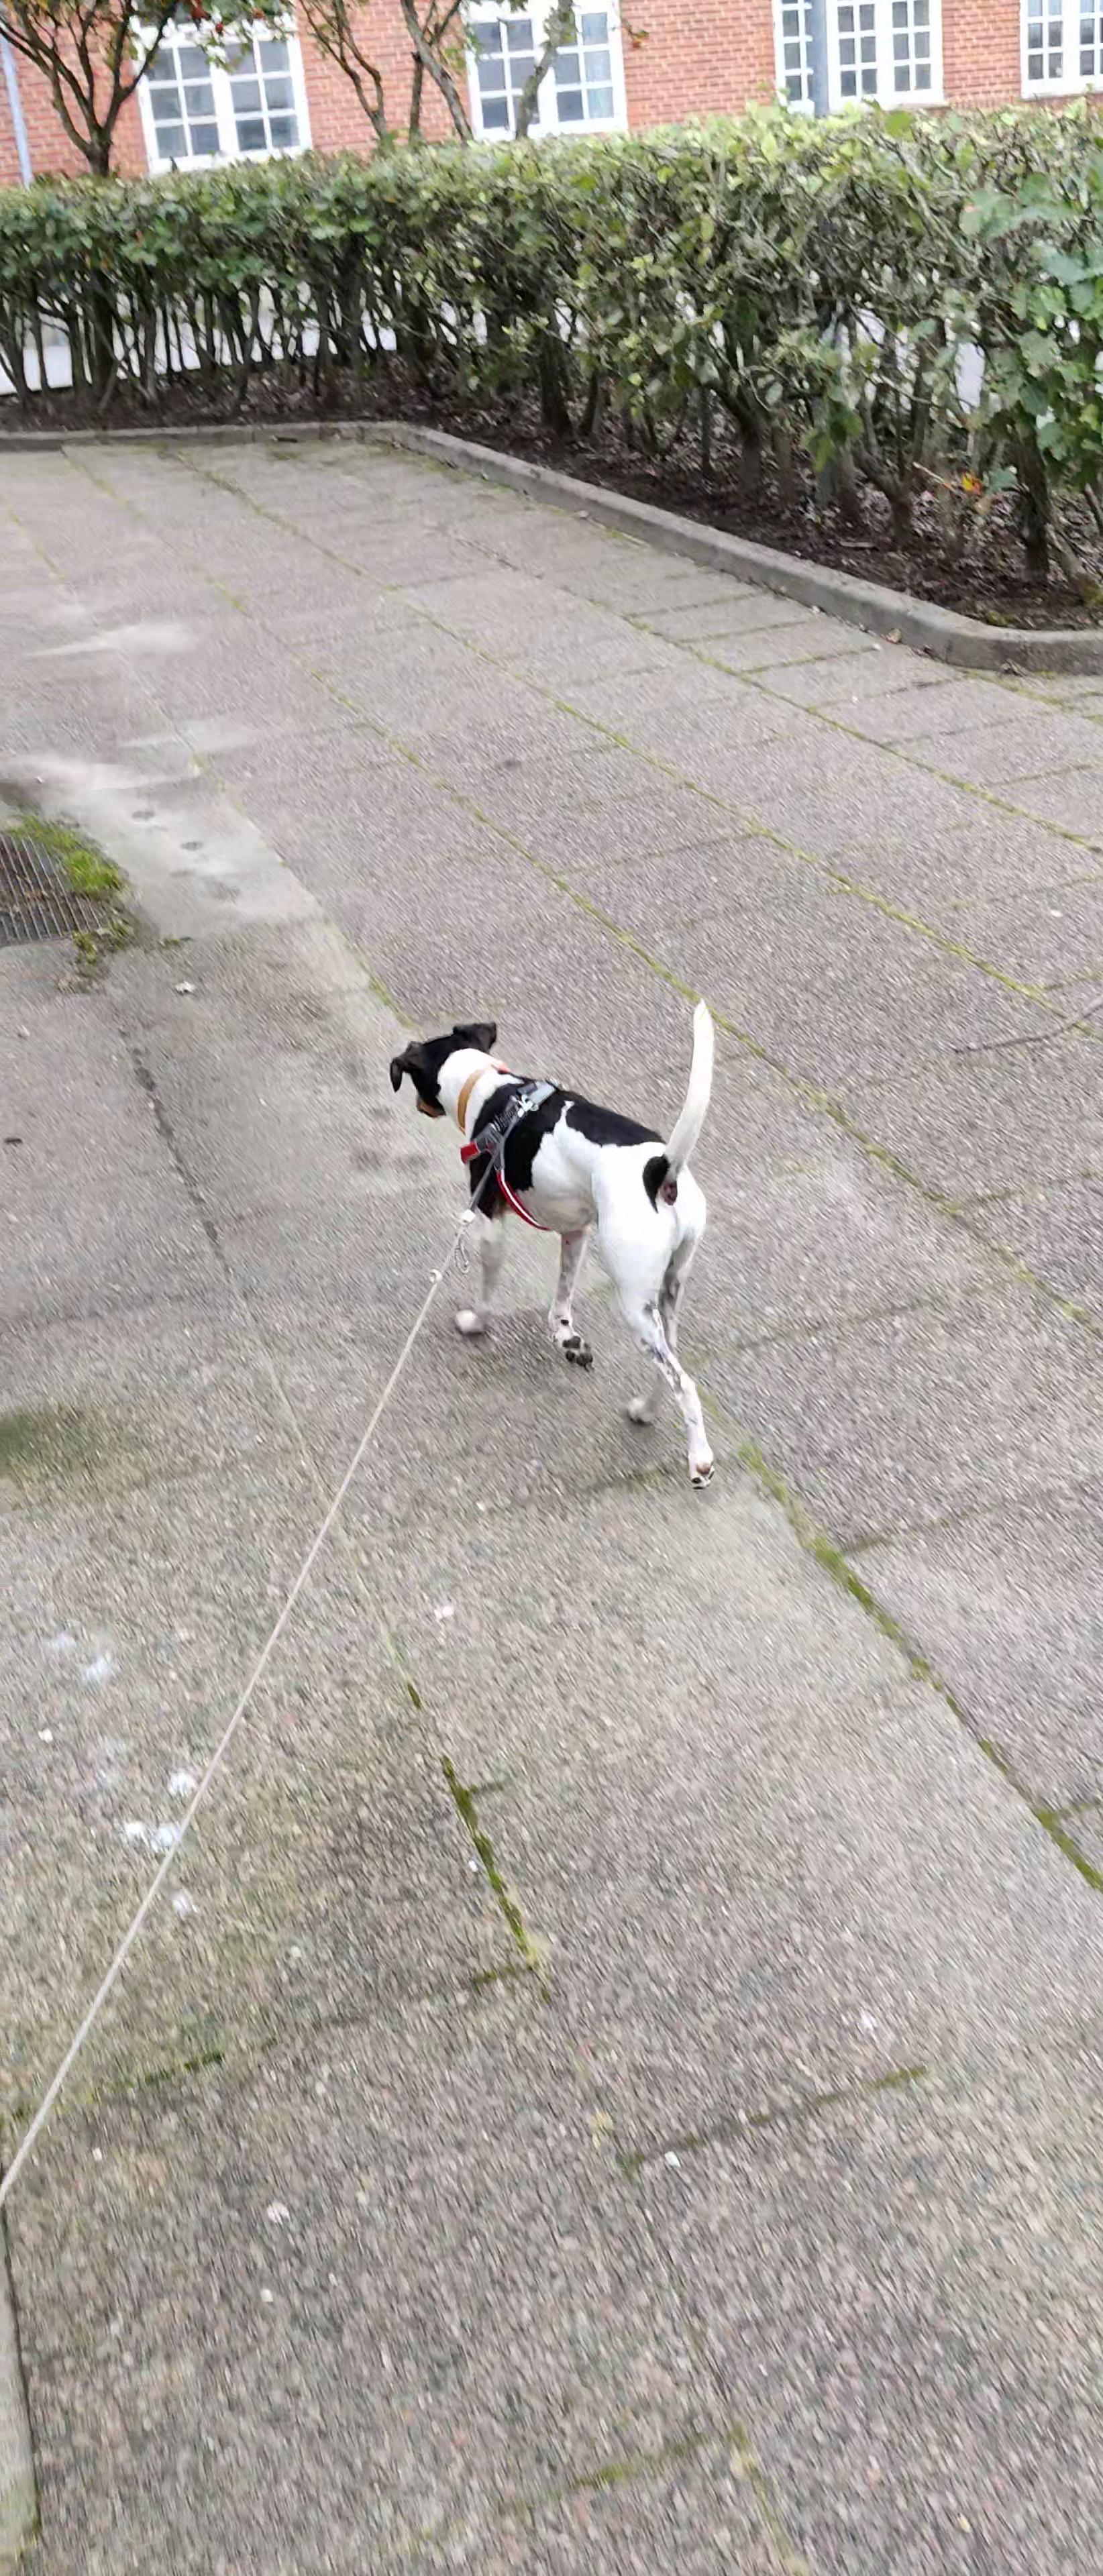Dog: (388, 992, 722, 1503)
